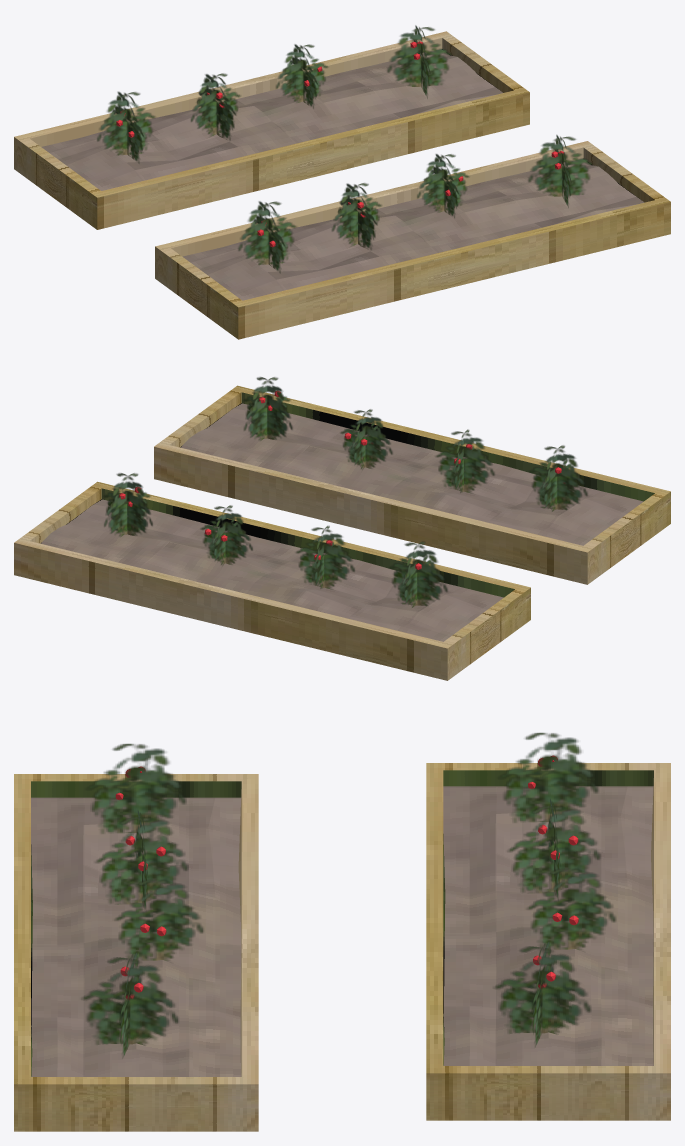
File: GardenPatch.glb
3 views of the same model, one above another, from view 1: azimuth 30°, elevation 25°; view 2: azimuth 150°, elevation 25°; view 3: azimuth 270°, elevation 25° (orthographic). The views are drawn at different scales.
Parts seen in each view (by area): view 1: Cube.001, Cube, Plane.002, Plane.008, Plane.003, Plane.001, Plane.006, Plane.004, Plane.007, Plane.005; view 2: Cube, Cube.001, Plane.003, Plane.001, Plane.004, Plane.006, Plane.002, Plane.008, Plane.007, Plane.005; view 3: Cube.001, Cube, Plane.008, Plane.002, Plane.003, Plane.001, Plane.004, Plane.006, Plane.005, Plane.007.
Part boxes in pixels (x1=…): Cube.001: x1=14, y1=31, x2=529, y2=229; Cube: x1=155, y1=141, x2=670, y2=339; Plane.002: x1=528, y1=135, x2=592, y2=207; Plane.008: x1=387, y1=25, x2=451, y2=98; Plane.003: x1=97, y1=91, x2=155, y2=163; Plane.001: x1=238, y1=201, x2=296, y2=273; Plane.006: x1=190, y1=73, x2=240, y2=140; Plane.004: x1=331, y1=183, x2=381, y2=249; Plane.007: x1=275, y1=44, x2=327, y2=108; Plane.005: x1=417, y1=154, x2=469, y2=217; Cube: x1=154, y1=385, x2=670, y2=584; Cube.001: x1=14, y1=481, x2=530, y2=680; Plane.003: x1=389, y1=541, x2=447, y2=607; Plane.001: x1=529, y1=445, x2=587, y2=511; Plane.004: x1=435, y1=429, x2=494, y2=493; Plane.006: x1=296, y1=526, x2=354, y2=589; Plane.002: x1=243, y1=377, x2=292, y2=440; Plane.008: x1=104, y1=473, x2=152, y2=536; Plane.007: x1=200, y1=505, x2=252, y2=565; Plane.005: x1=340, y1=409, x2=392, y2=469; Cube.001: x1=426, y1=763, x2=670, y2=1120; Cube: x1=14, y1=774, x2=258, y2=1131; Plane.008: x1=494, y1=941, x2=591, y2=1047; Plane.002: x1=81, y1=951, x2=178, y2=1058; Plane.003: x1=498, y1=732, x2=598, y2=822; Plane.001: x1=86, y1=743, x2=186, y2=833; Plane.004: x1=95, y1=810, x2=188, y2=909; Plane.006: x1=507, y1=799, x2=600, y2=900; Plane.005: x1=114, y1=879, x2=203, y2=960; Plane.007: x1=527, y1=868, x2=616, y2=949.
Size of the model in its own units: 6.01 by 1.27 by 5.37.
4 materials, 3 textured.
